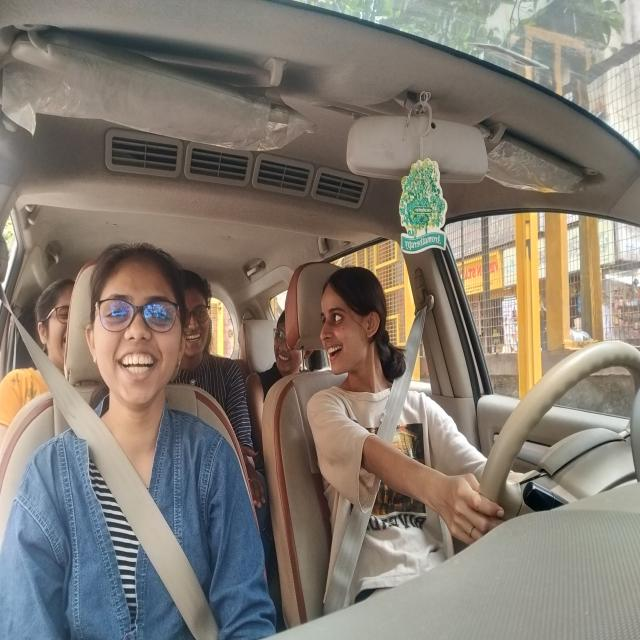LeftRight: (310, 242, 410, 422)
person: (80, 245, 194, 416), (22, 264, 73, 372), (258, 303, 313, 385), (183, 257, 220, 371)
talking: (319, 340, 349, 367)
